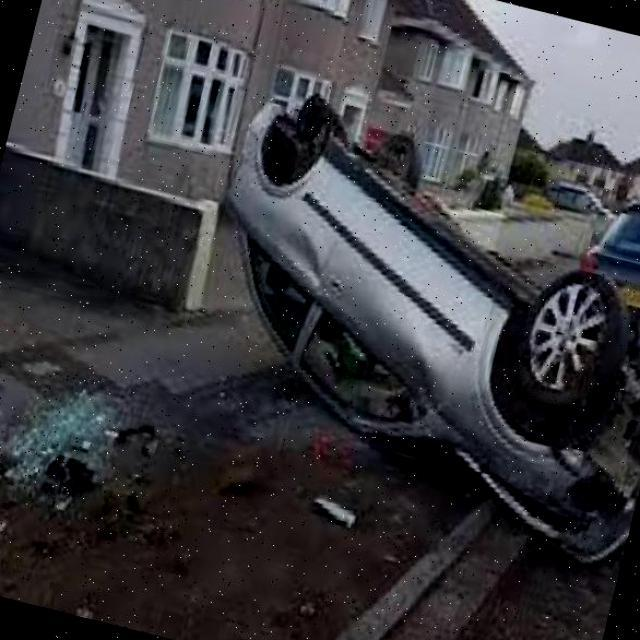accident: (147, 66, 640, 578)
